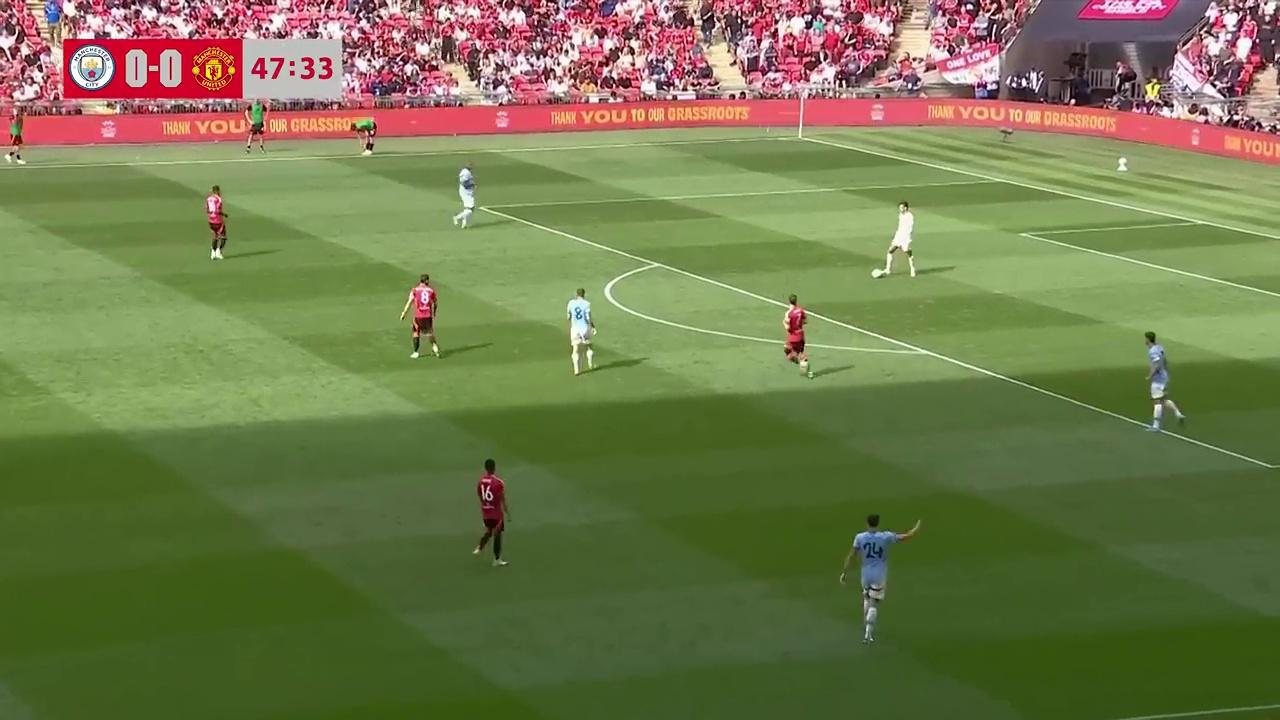ball: (870, 265, 883, 280)
player: (839, 514, 909, 650), (1142, 331, 1185, 431), (472, 459, 510, 568), (399, 273, 440, 358), (880, 200, 916, 278), (566, 288, 595, 375), (782, 294, 811, 378), (205, 184, 227, 260), (454, 162, 475, 228)
